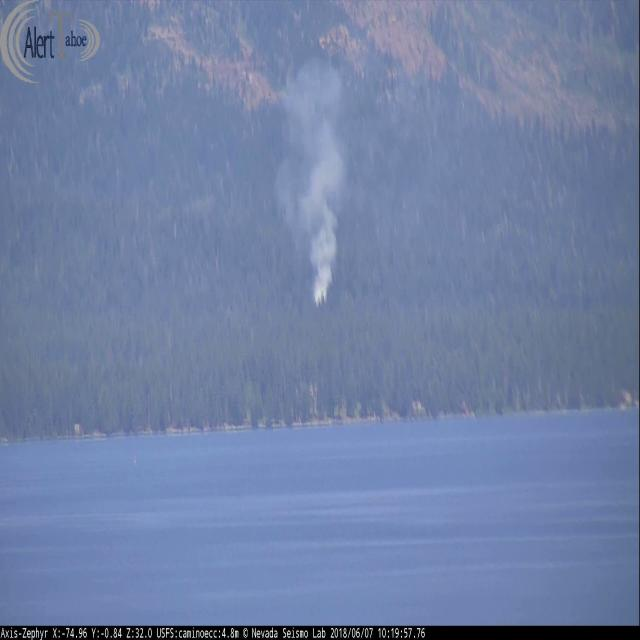smoke: (269, 48, 353, 311)
